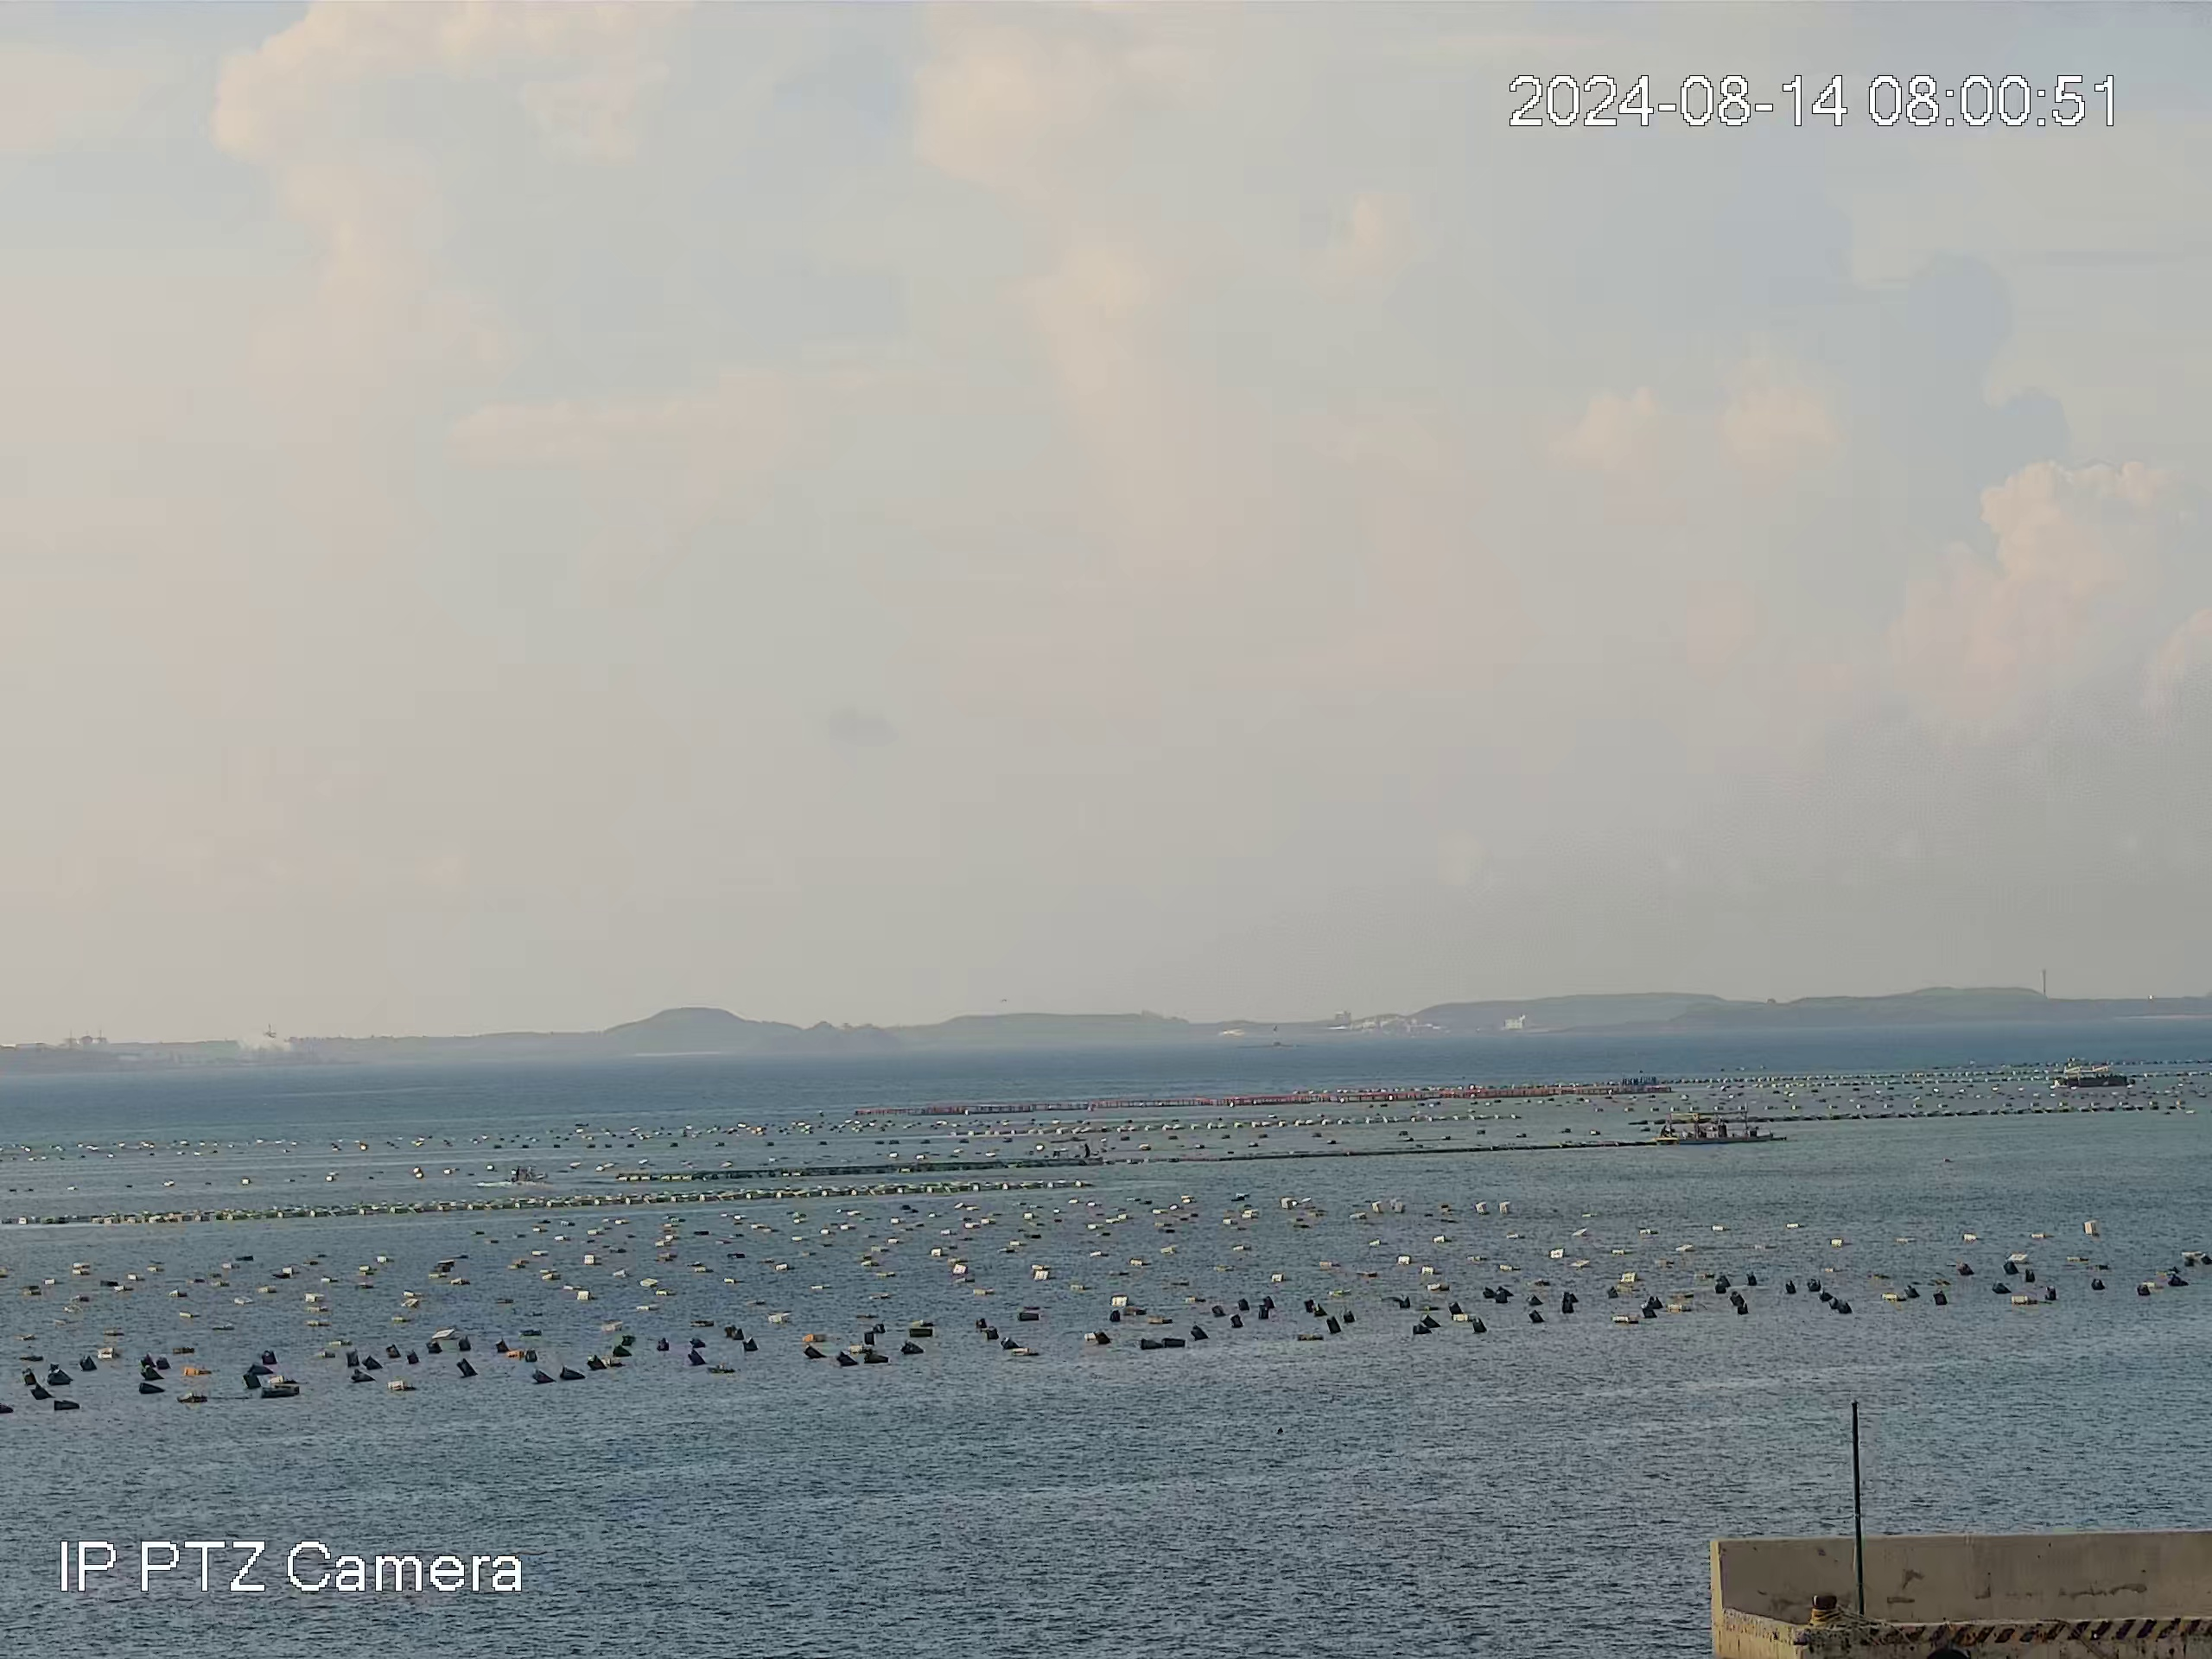boat: (1655, 1107, 1787, 1148), (2054, 1063, 2141, 1091), (491, 1159, 564, 1187)
